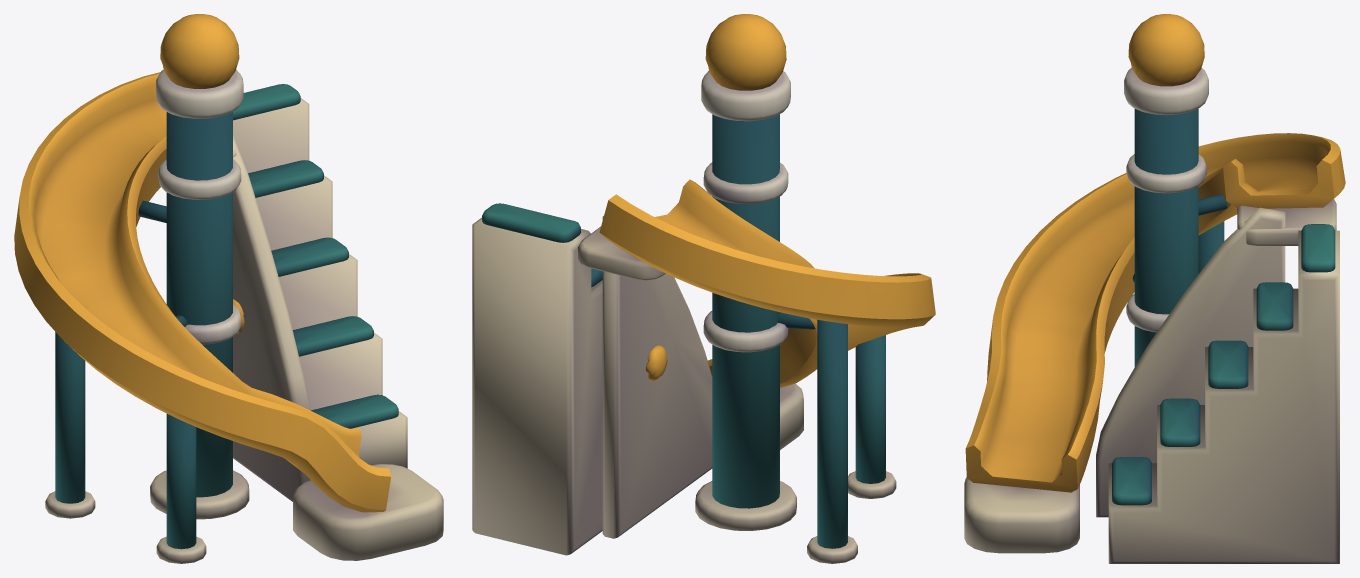
File: curly-slide.glb
The picture shows the model from 3 angles, left to right: view 1: azimuth 30°, elevation 25°; view 2: azimuth 150°, elevation 25°; view 3: azimuth 270°, elevation 25°; orthographic projection. The views are drawn at different scales.
Parts seen in each view (by area): view 1: curly-slide; view 2: curly-slide; view 3: curly-slide.
Boxes of the visible parts, x1,y1,x2,y2 form: curly-slide: (14,14,443,563); curly-slide: (472,14,935,563); curly-slide: (964,14,1345,563).
Size of the model in its own units: 2.36 by 3.19 by 2.38.
